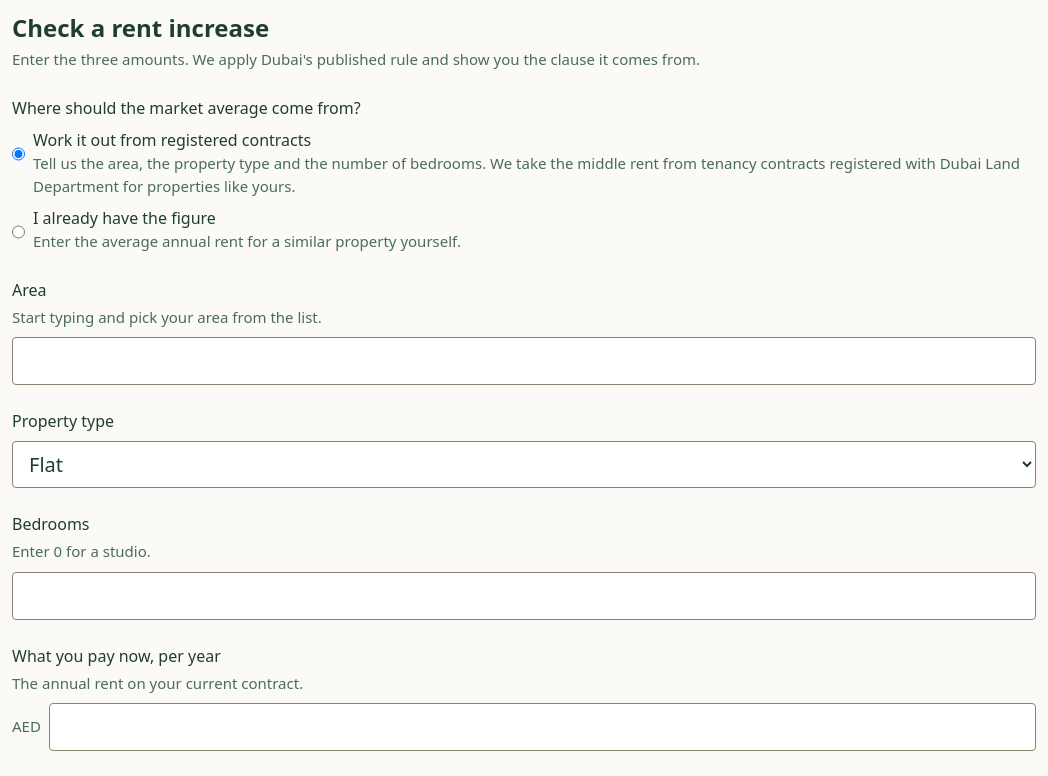
Scenario: the checker, when we can derive a market average › lets the reader supply the figure instead
The width and height of the screenshot is (1048, 776).
Click the radio button labelled "I already have the figure" at (18, 232), box [12,210,25,254]
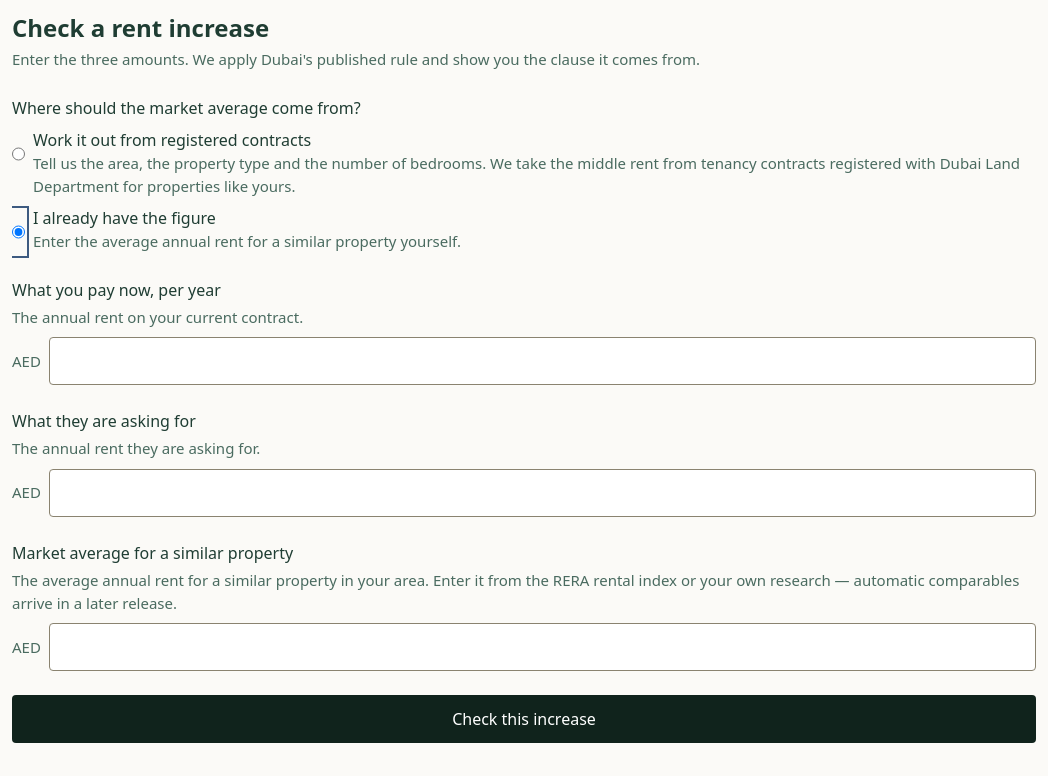
expect the field labelled "Market average for a similar property" is shown: met, box [49,623,1036,671]
